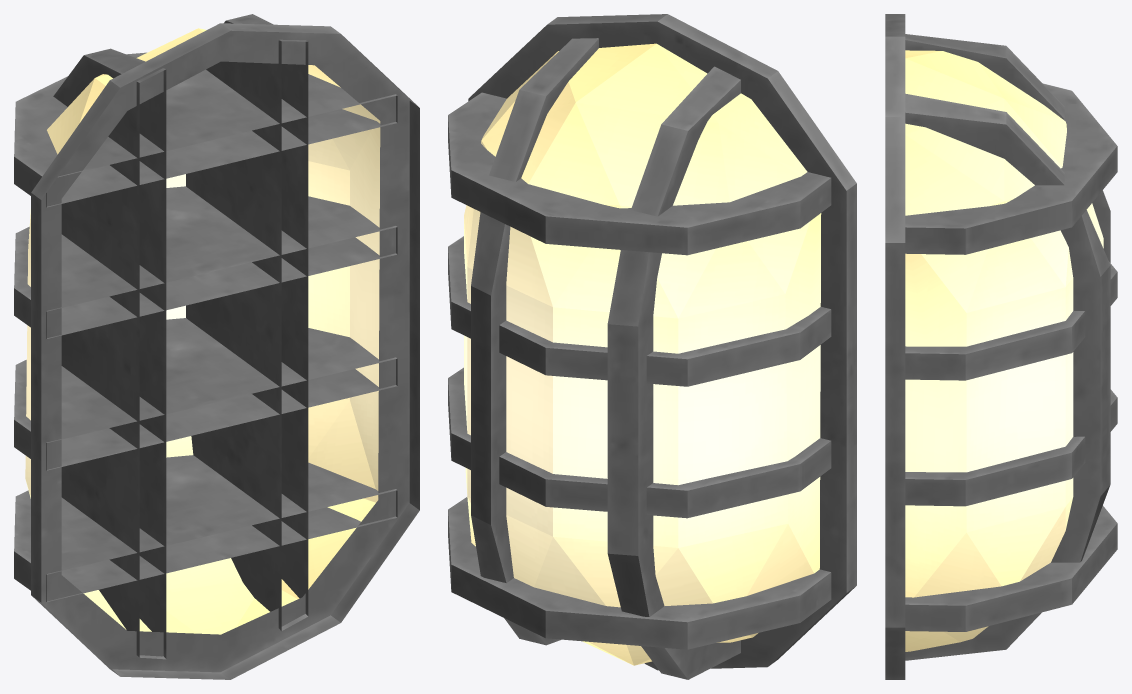
Rendered from plafoniera.glb.
The picture shows the model from 3 angles, left to right: view 1: azimuth 30°, elevation 25°; view 2: azimuth 150°, elevation 25°; view 3: azimuth 270°, elevation 25°; orthographic projection. The views are drawn at different scales.
Visible parts, largest first — view 1: WallLightMetalCage, WallLightGlassCover; view 2: WallLightMetalCage, WallLightGlassCover; view 3: WallLightMetalCage, WallLightGlassCover.
Boxes of the visible parts, x1,y1,x2,y2 form: WallLightMetalCage: (14, 14, 419, 679); WallLightGlassCover: (25, 28, 380, 634); WallLightMetalCage: (448, 14, 856, 679); WallLightGlassCover: (464, 43, 821, 665); WallLightMetalCage: (885, 14, 1117, 679); WallLightGlassCover: (905, 50, 1103, 651).
Bounding box in the file's own units: 211 × 345 × 117.
2 materials, 2 textured.
